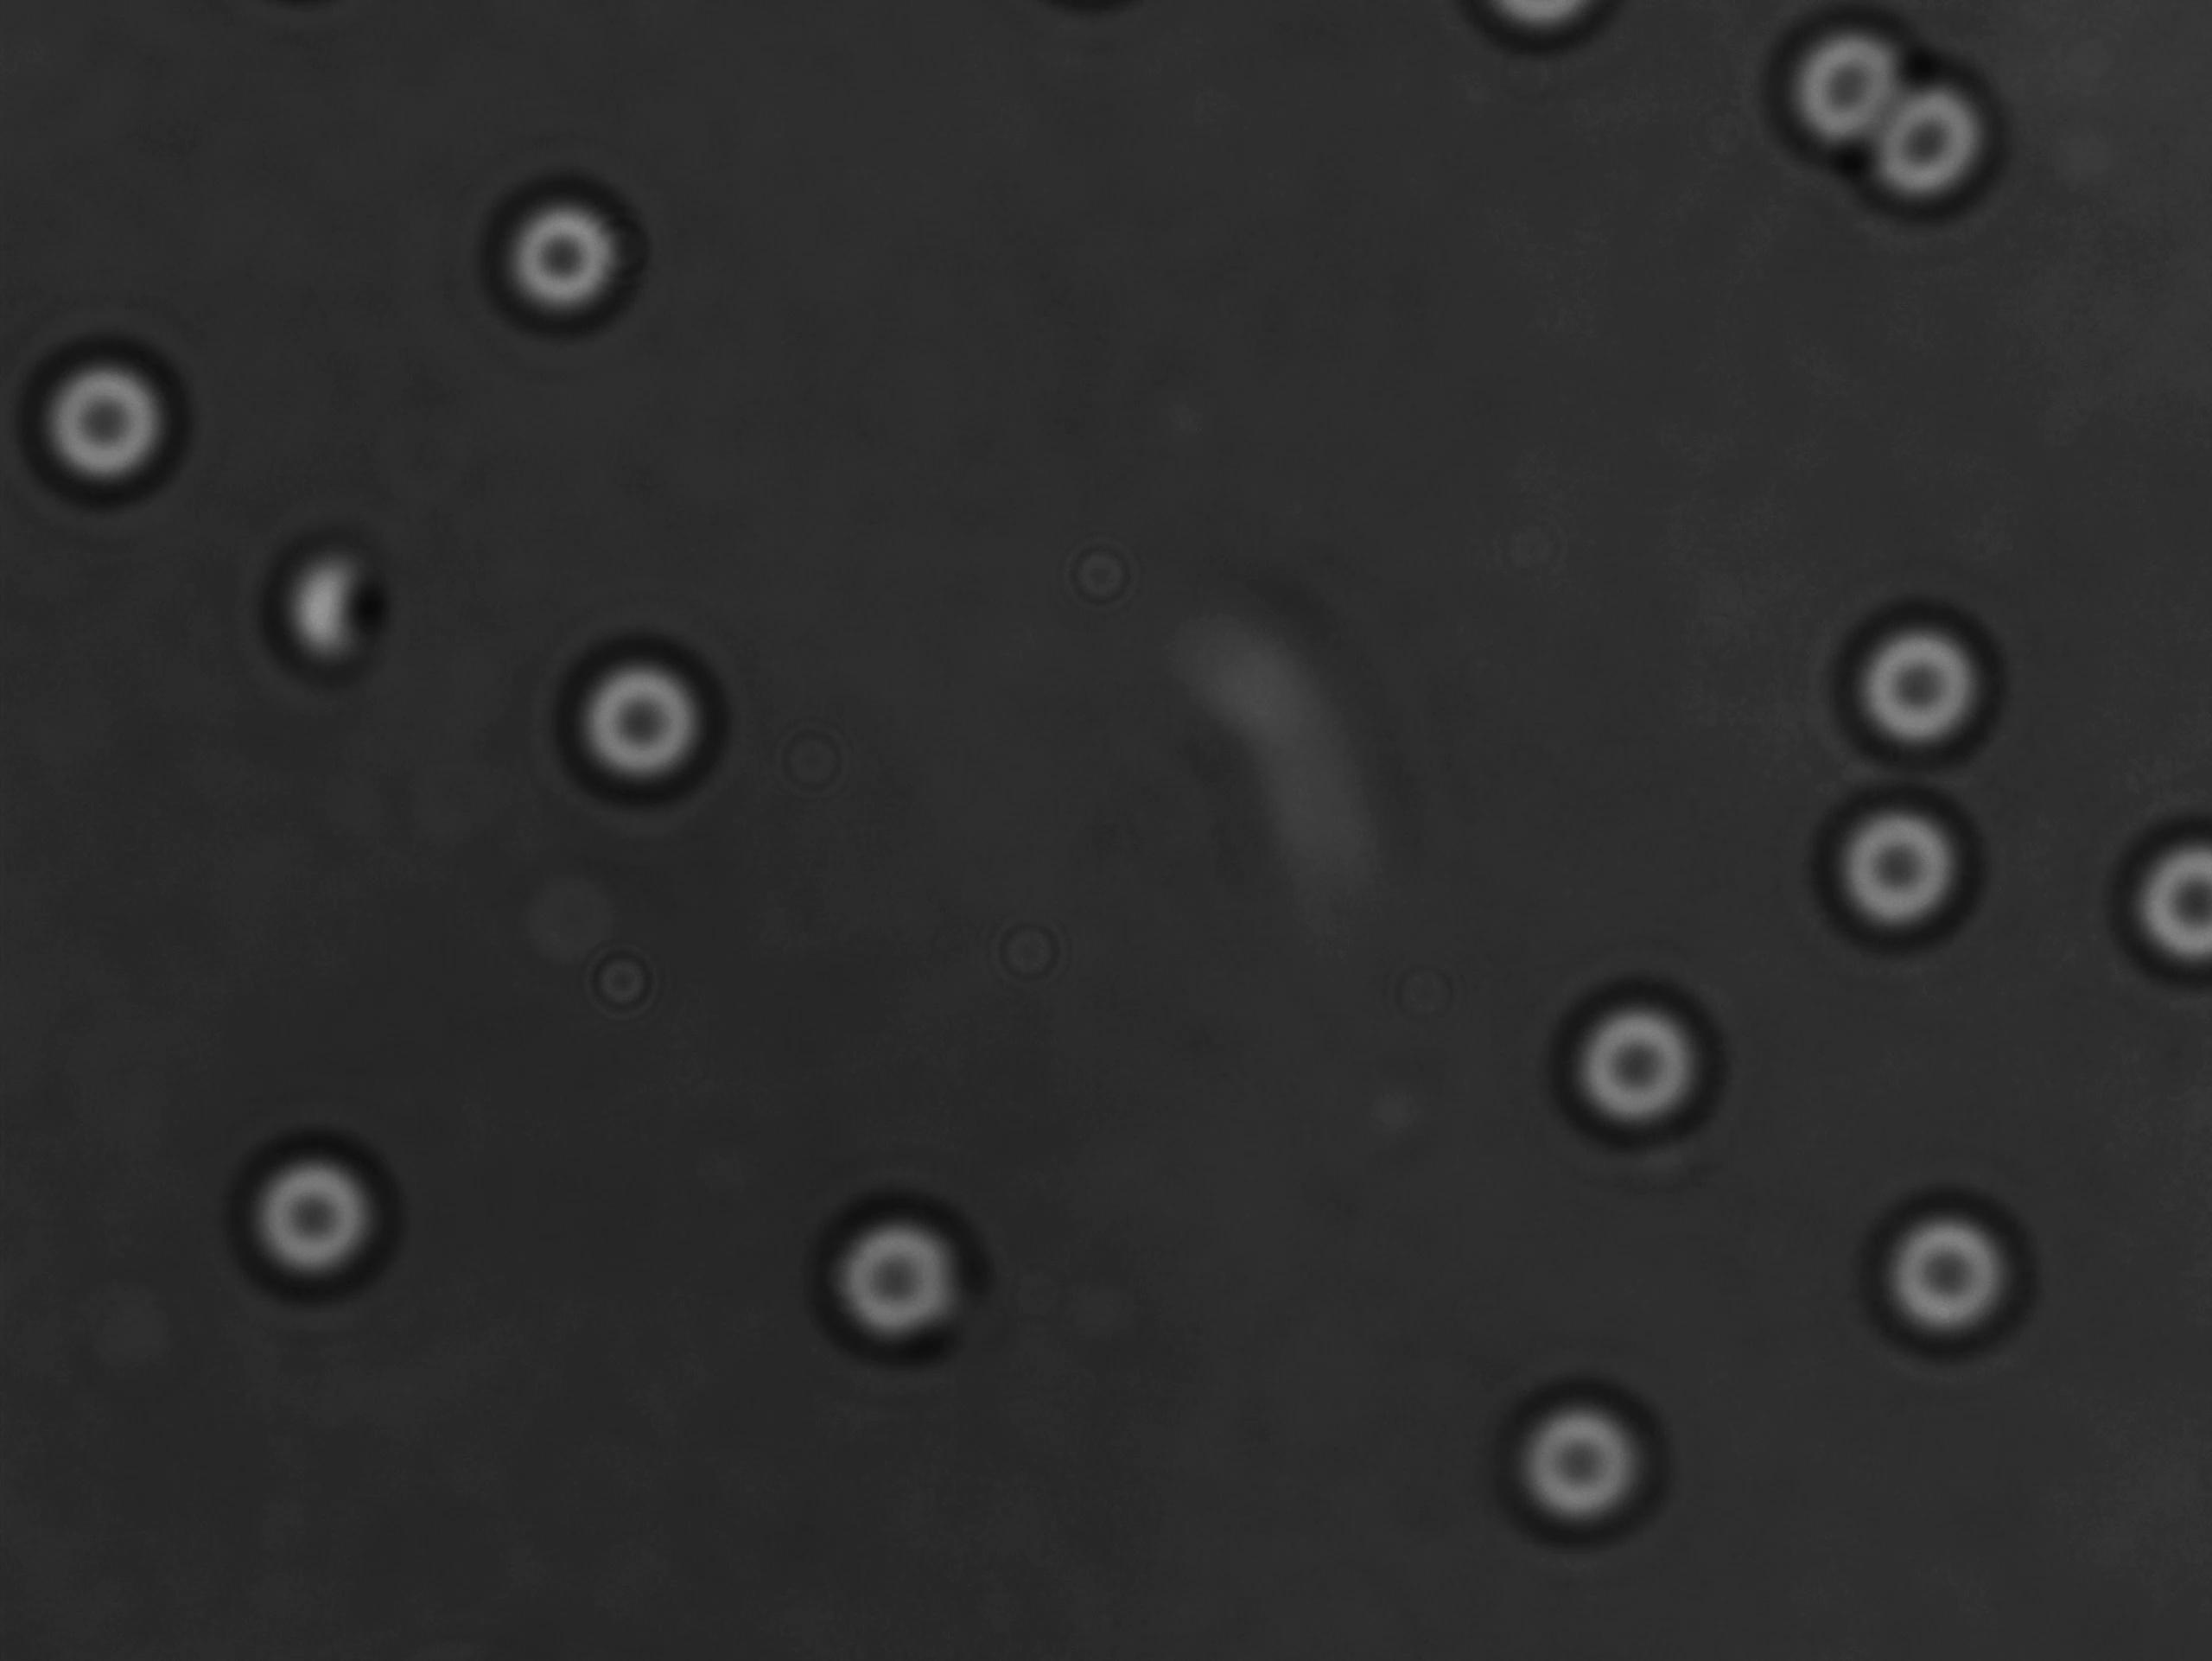depth:80: (523, 605, 743, 813), (1485, 1356, 1701, 1563), (1813, 782, 2029, 977), (213, 1101, 410, 1314), (1839, 1179, 2060, 1366), (811, 1176, 1014, 1364), (1551, 956, 1748, 1138), (1799, 598, 2004, 771), (0, 335, 201, 509), (473, 162, 652, 344)
